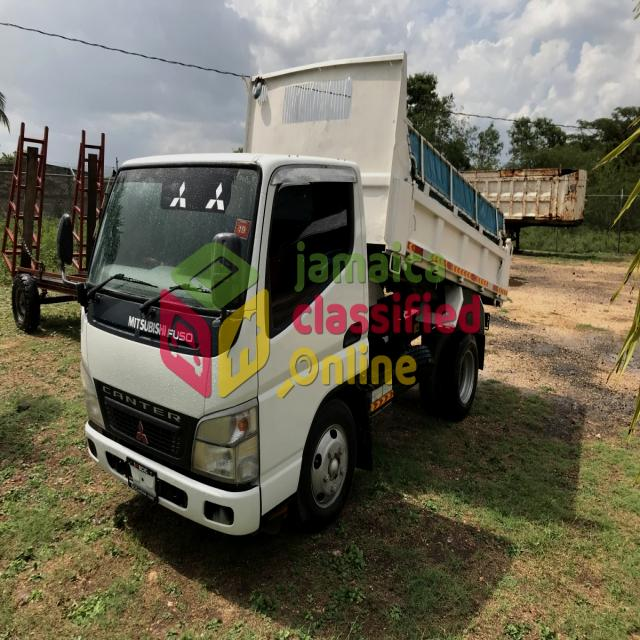truck: (58, 53, 514, 536)
